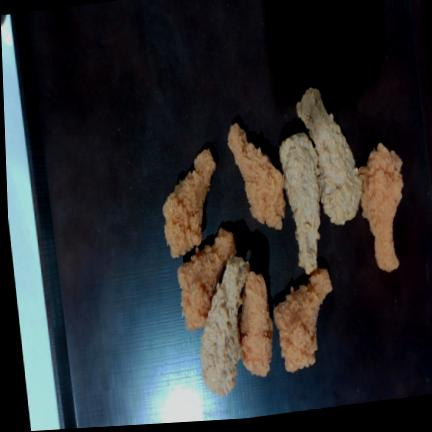chicken: (296, 87, 361, 224), (200, 256, 249, 396), (227, 122, 285, 229), (273, 268, 331, 372), (177, 227, 235, 330), (279, 132, 320, 273), (162, 148, 215, 257), (358, 142, 402, 271), (239, 270, 272, 376)
